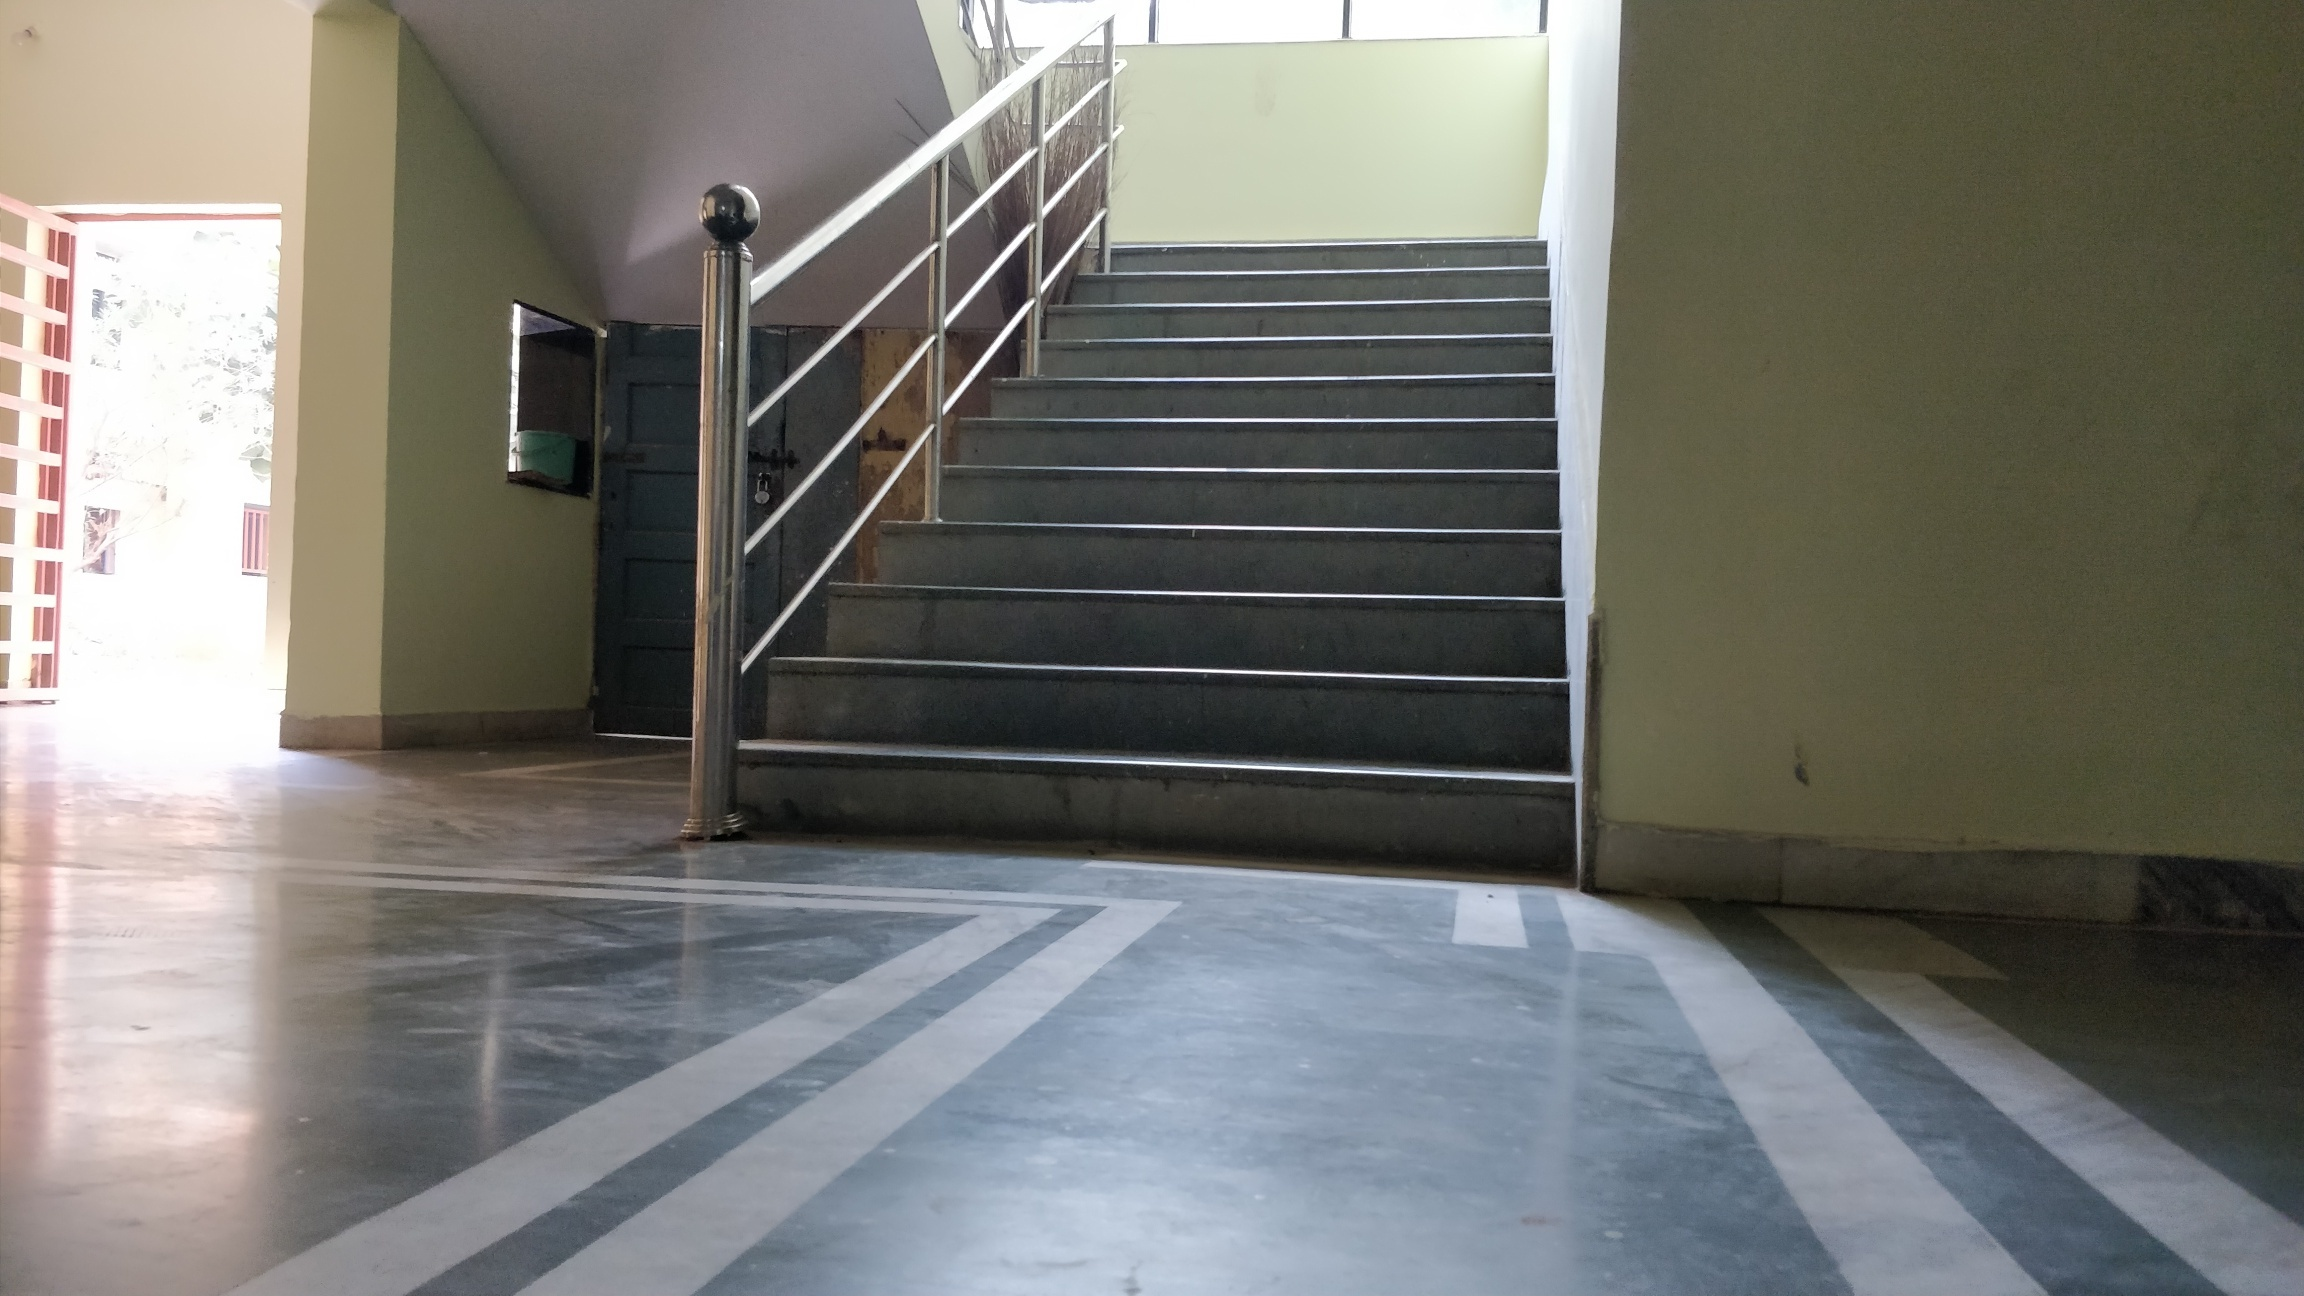stairs_up: (707, 222, 1554, 821)
